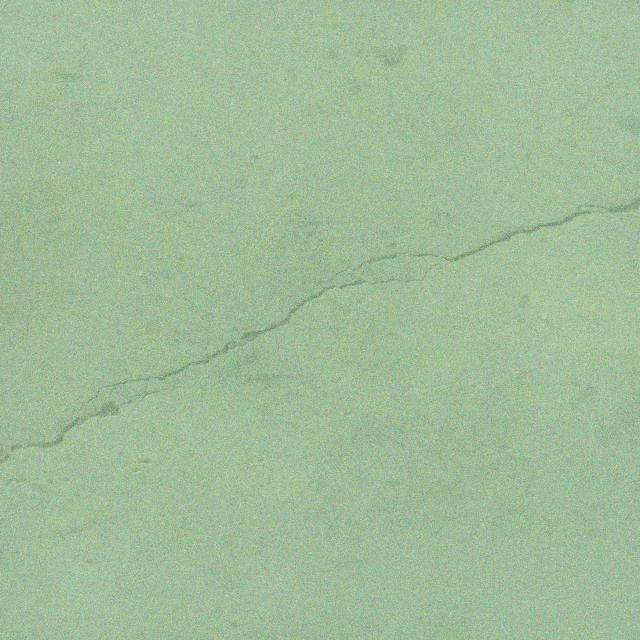crack: (78, 195, 640, 408), (0, 382, 198, 463)
